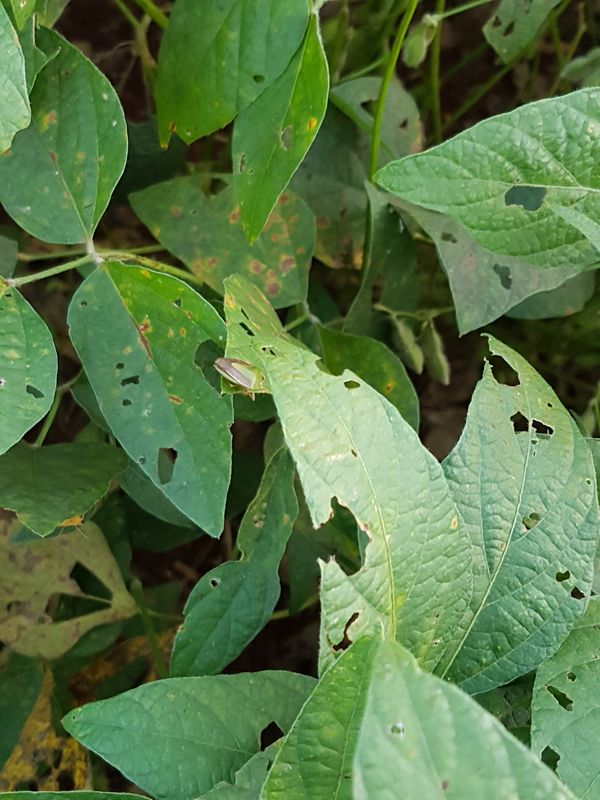Edessa_meditabunda: (205, 344, 282, 412)
